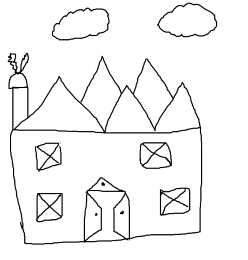closed_window: (140, 139, 173, 169), (159, 187, 191, 215), (35, 192, 64, 222), (35, 141, 61, 170)
clouds: (156, 2, 218, 39), (52, 4, 110, 40)
door: (78, 176, 136, 245)
roof: (12, 58, 199, 133)
smoking_chimney: (2, 48, 37, 129)
wall: (9, 127, 205, 245)
